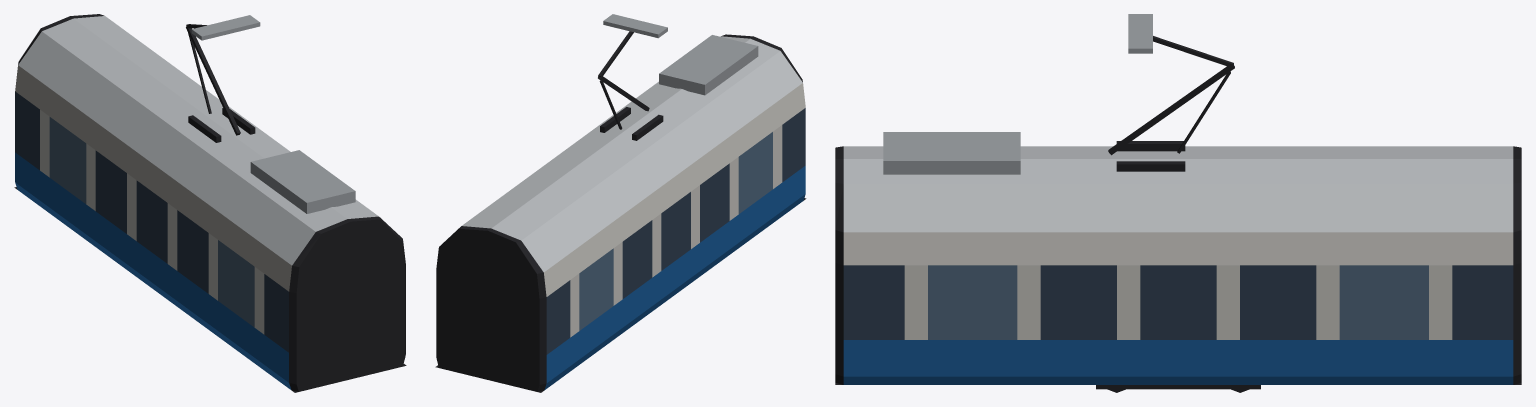
File: cobra_mittel.glb
3 renders of one model, left to right at view 1: azimuth 30°, elevation 25°; view 2: azimuth 150°, elevation 25°; view 3: azimuth 270°, elevation 25°, orthographic. The views are drawn at different scales.
Parts seen in each view (by area): view 1: body; view 2: body; view 3: body.
Part boxes in pixels (x1,y1,x2,y2): body: (14, 14, 406, 392); body: (435, 14, 806, 392); body: (835, 14, 1521, 392).
Bounding box in the file's own units: 2.4 × 5.45 × 10.
